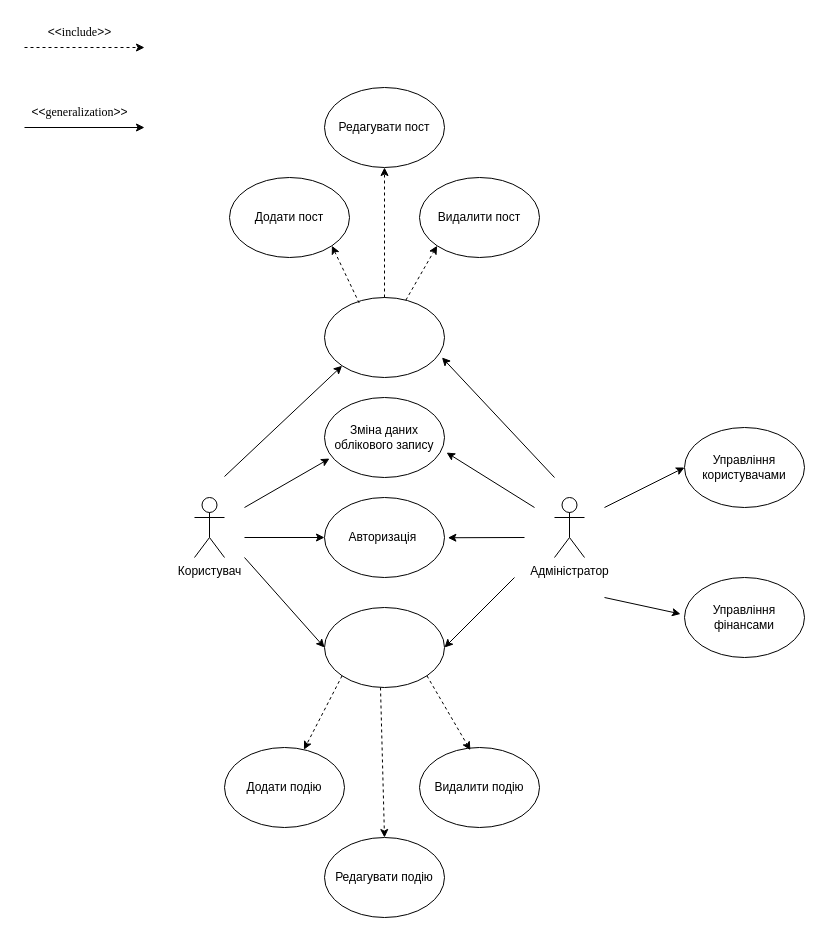
Image size: 822x935. Some labels were removed from this diagram. Each missing label, with the centre of its shape:
"Управління подіями" goes at point (384, 647).
"Управління постами" goes at point (384, 337).
